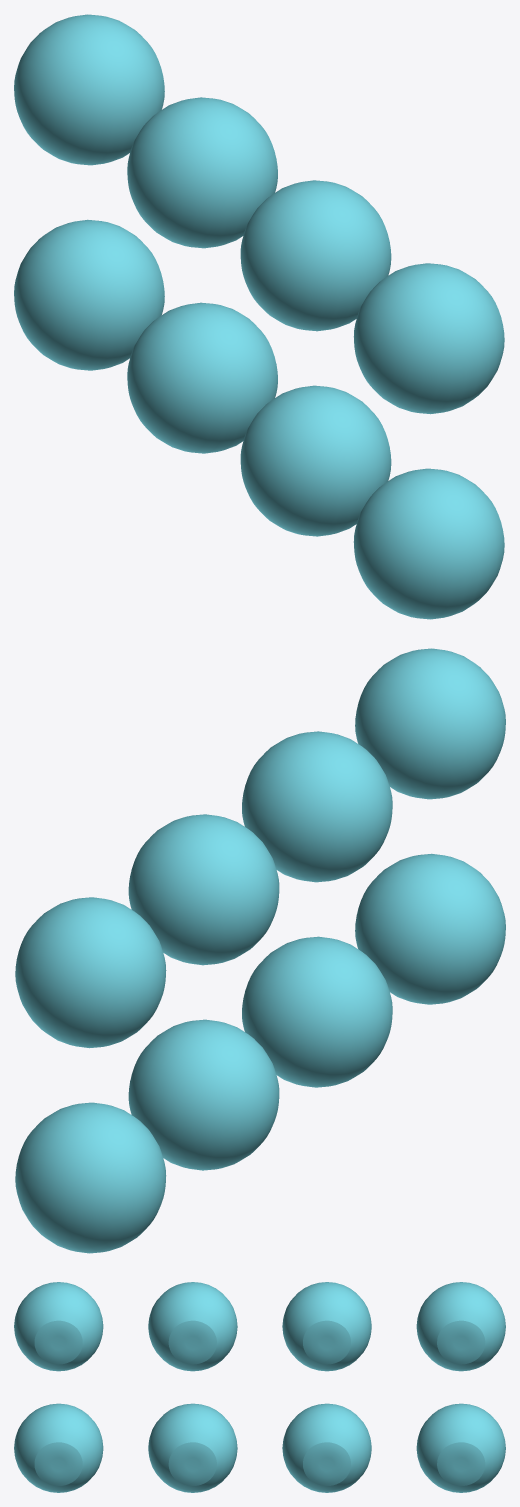
The model's file is Eyes.fbx.
3 renders of one model, top to bottom at view 1: azimuth 30°, elevation 25°; view 2: azimuth 150°, elevation 25°; view 3: azimuth 270°, elevation 25°, orthographic. The views are drawn at different scales.
Parts seen in each view (by area): view 1: eye5, eye1, eye3, eye8, eye2, eye6, eye7, eye4; view 2: eye4, eye8, eye3, eye5, eye2, eye6, eye7, eye1; view 3: eye3, eye6, eye2, eye7, eye4, eye5, eye1, eye8.
Boxes of the visible parts, x1,y1,x2,y2 form: eye5: [353, 263, 504, 414]; eye1: [353, 468, 504, 619]; eye3: [127, 302, 277, 453]; eye8: [14, 14, 164, 165]; eye2: [240, 385, 391, 536]; eye6: [240, 180, 391, 331]; eye7: [127, 97, 277, 248]; eye4: [14, 219, 164, 370]; eye4: [15, 1102, 166, 1253]; eye8: [15, 897, 166, 1048]; eye3: [128, 1019, 279, 1170]; eye5: [355, 648, 505, 799]; eye2: [242, 936, 392, 1087]; eye6: [242, 731, 392, 882]; eye7: [128, 814, 279, 965]; eye1: [355, 853, 505, 1004]; eye3: [282, 1403, 371, 1492]; eye6: [148, 1282, 237, 1371]; eye2: [148, 1403, 237, 1492]; eye7: [282, 1282, 371, 1371]; eye4: [416, 1403, 505, 1492]; eye5: [14, 1282, 103, 1371]; eye1: [14, 1403, 103, 1492]; eye8: [416, 1282, 505, 1371].
Bounding box in the file's own units: 204 × 500 × 1100.
